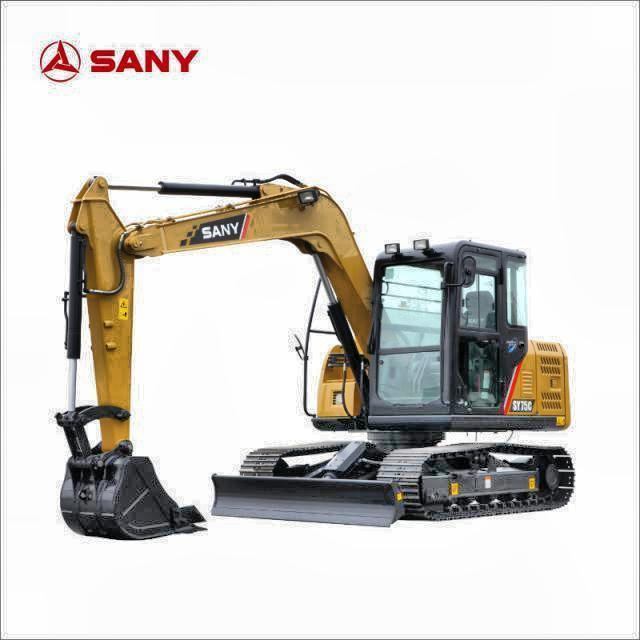excavator: (53, 162, 576, 544)
